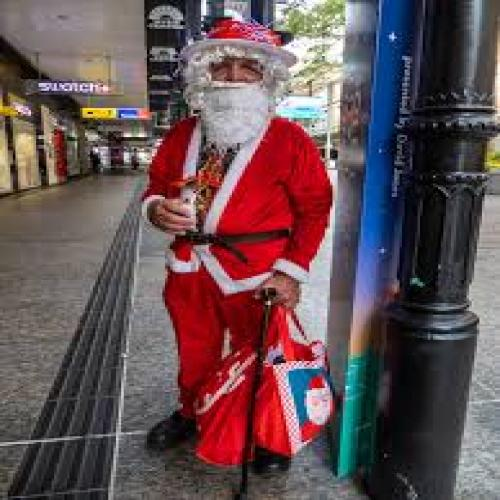Santa: (143, 17, 336, 479)
